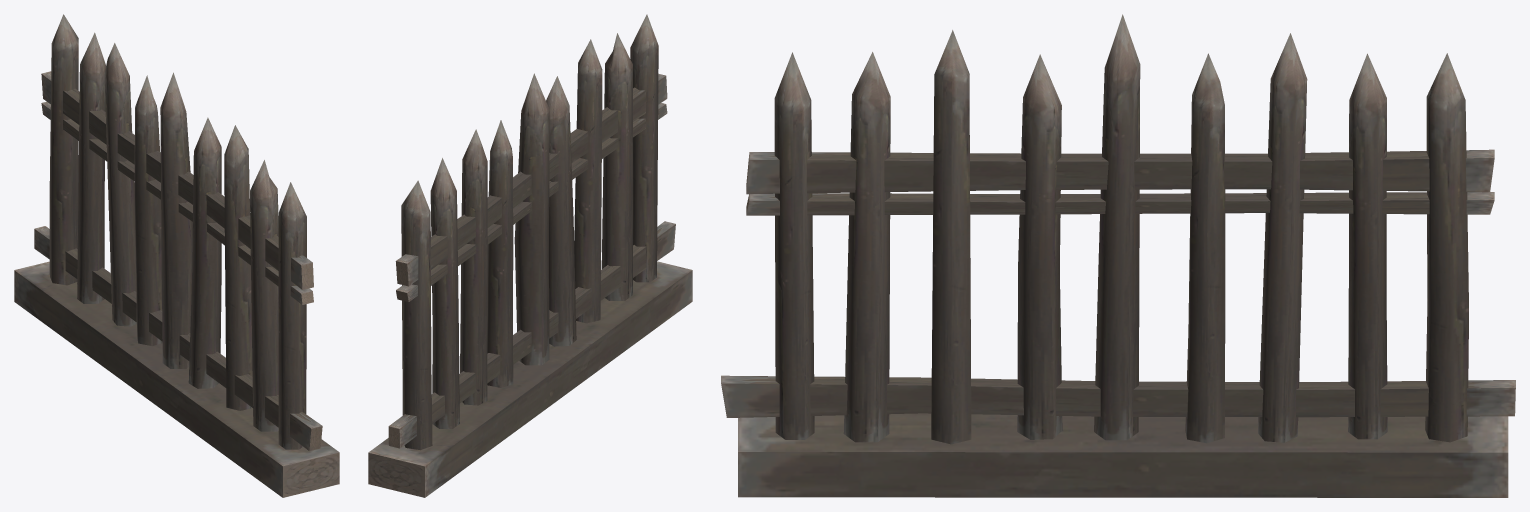
File: Homeworld_Exterior_Dq_Build_House_29_Lod0.fbx
The picture shows the model from 3 angles, left to right: view 1: azimuth 30°, elevation 25°; view 2: azimuth 150°, elevation 25°; view 3: azimuth 270°, elevation 25°; orthographic projection. The views are drawn at different scales.
Parts seen in each view (by area): view 1: Area_Common_Build_Railing_01_Lod0; view 2: Area_Common_Build_Railing_01_Lod0; view 3: Area_Common_Build_Railing_01_Lod0.
Boxes of the visible parts, bbox=[...] form: Area_Common_Build_Railing_01_Lod0: bbox=[14, 14, 339, 497]; Area_Common_Build_Railing_01_Lod0: bbox=[368, 14, 692, 497]; Area_Common_Build_Railing_01_Lod0: bbox=[721, 14, 1515, 497].
Size of the model in its own units: 0.6048 by 3.27 by 5.1.
